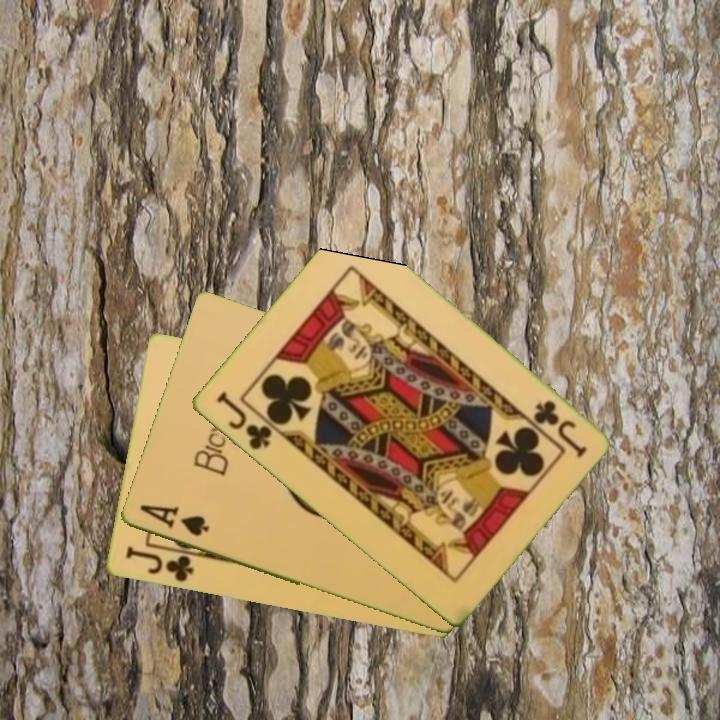As: (135, 501, 212, 540)
Jc: (212, 388, 275, 453), (529, 396, 590, 460), (121, 542, 196, 586)
